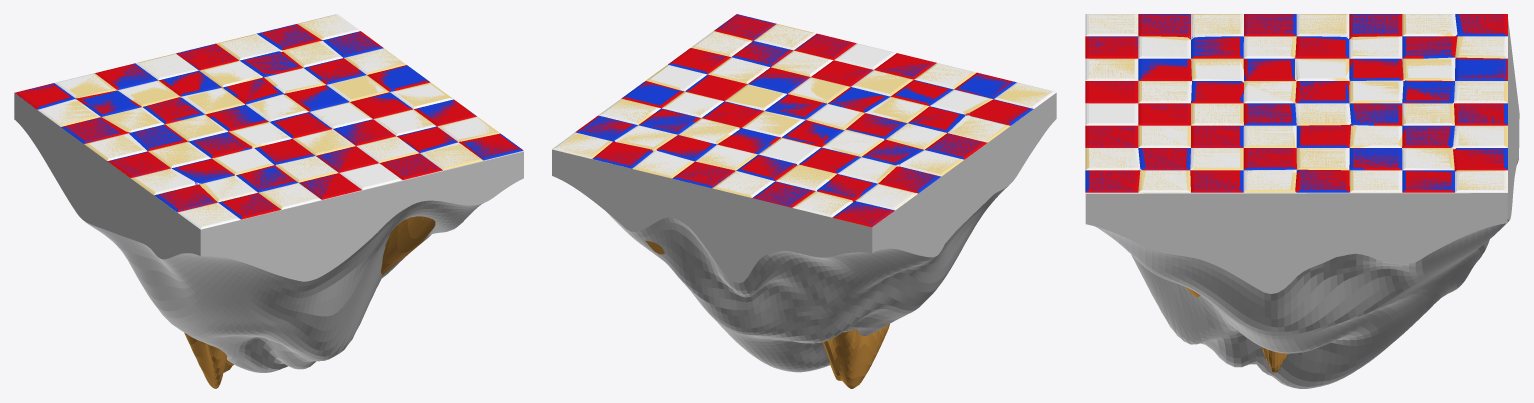
Rendered from echiquier2.glb.
3 renders of one model, left to right at view 1: azimuth 30°, elevation 25°; view 2: azimuth 150°, elevation 25°; view 3: azimuth 270°, elevation 25°, orthographic. The views are drawn at different scales.
Visible parts, largest first — view 1: Cube, Carreaux_Essai, Plane.002, Plane; view 2: Cube, Carreaux_Essai, Plane.002, Plane; view 3: Carreaux_Essai, Cube, Plane.002, Plane.
Boxes of the visible parts, x1,y1,x2,y2 form: Cube: (14, 83, 523, 372); Carreaux_Essai: (15, 14, 522, 229); Plane.002: (18, 15, 523, 226); Plane: (184, 216, 435, 388); Cube: (552, 92, 1056, 372); Carreaux_Essai: (553, 14, 1056, 227); Plane.002: (554, 14, 1051, 226); Plane: (645, 240, 889, 388); Carreaux_Essai: (1085, 14, 1507, 192); Cube: (1085, 19, 1519, 388); Plane.002: (1085, 14, 1507, 192); Plane: (1184, 286, 1291, 372).
Size of the model in its own units: 20.16 by 15.25 by 20.68.
